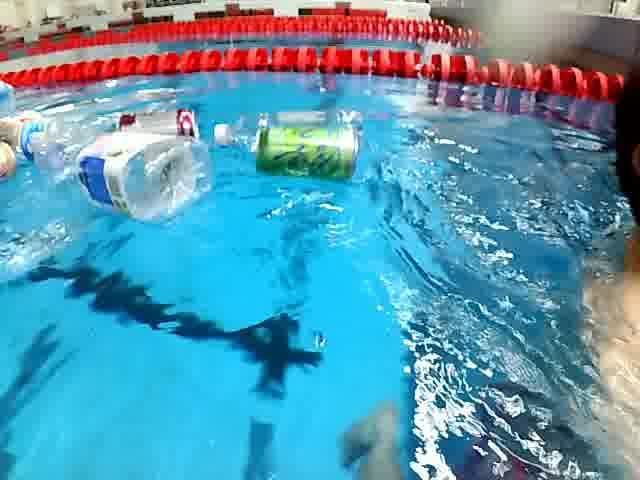Bottle: (74, 136, 238, 203), (214, 104, 380, 139), (7, 109, 76, 180)
Can: (248, 124, 368, 186), (100, 102, 207, 140), (0, 136, 26, 193)
